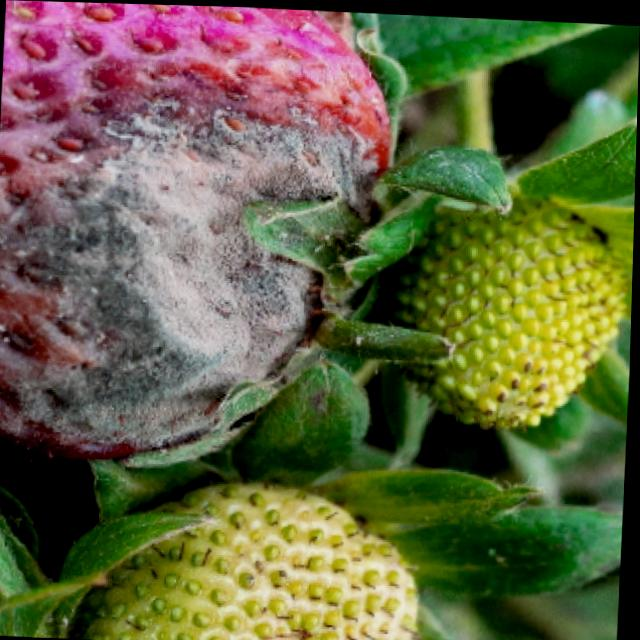Gray Mold: (0, 0, 439, 465)
